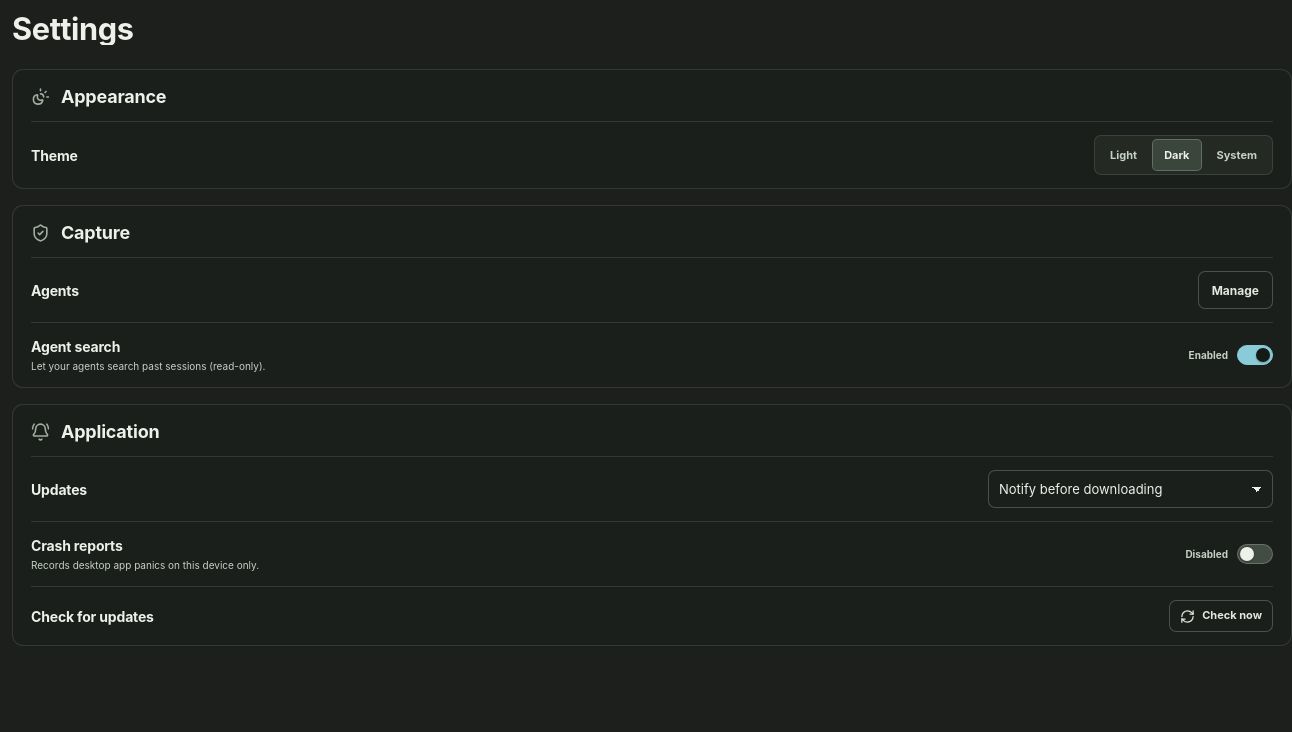
Test: settings appearance preference › restores the previously saved override rather than System after a failed save
The width and height of the screenshot is (1292, 732).
Check: the button "Dark" is shown, box [1152,139,1202,171]
Click the button "Light".
click(1124, 155)  # box [1098,139,1149,171]
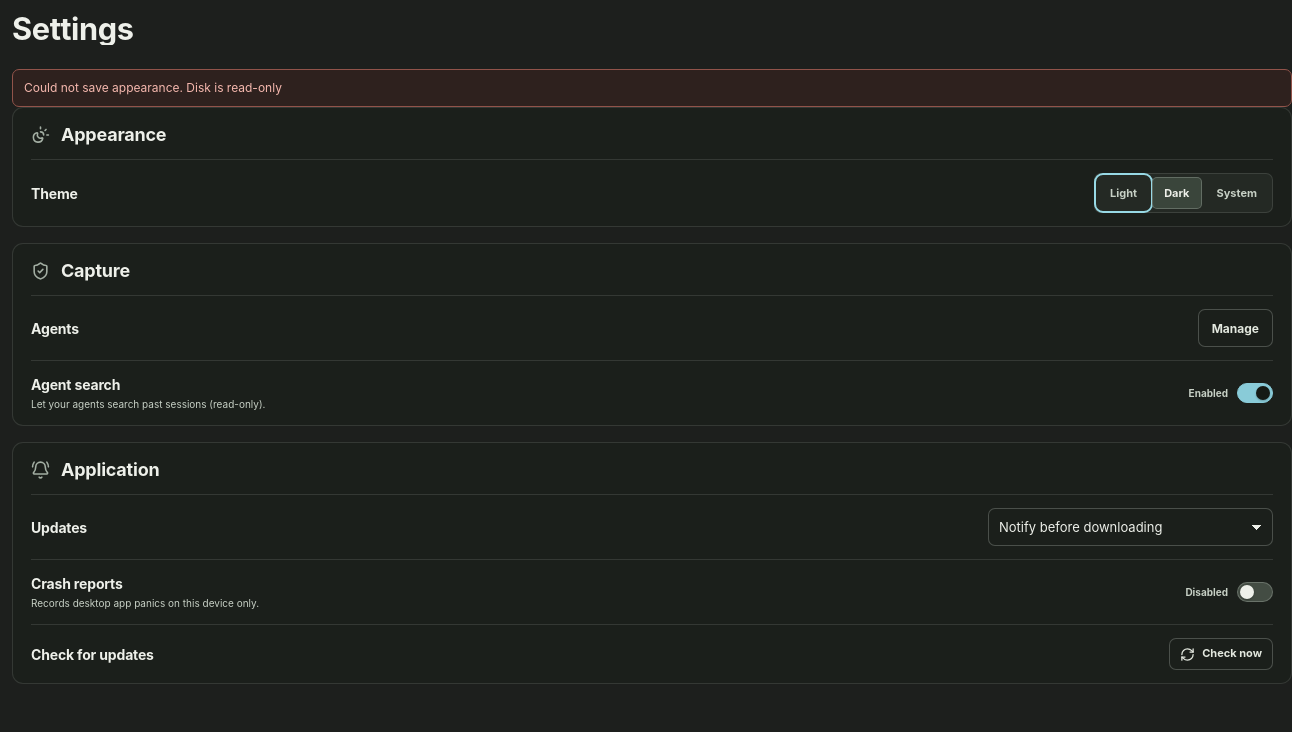
Check: the button "Dark" is shown, box [1152,177,1202,209]
Check: the text "Could not save appearance. Disk is read-only" is shown, box [24,79,282,97]
